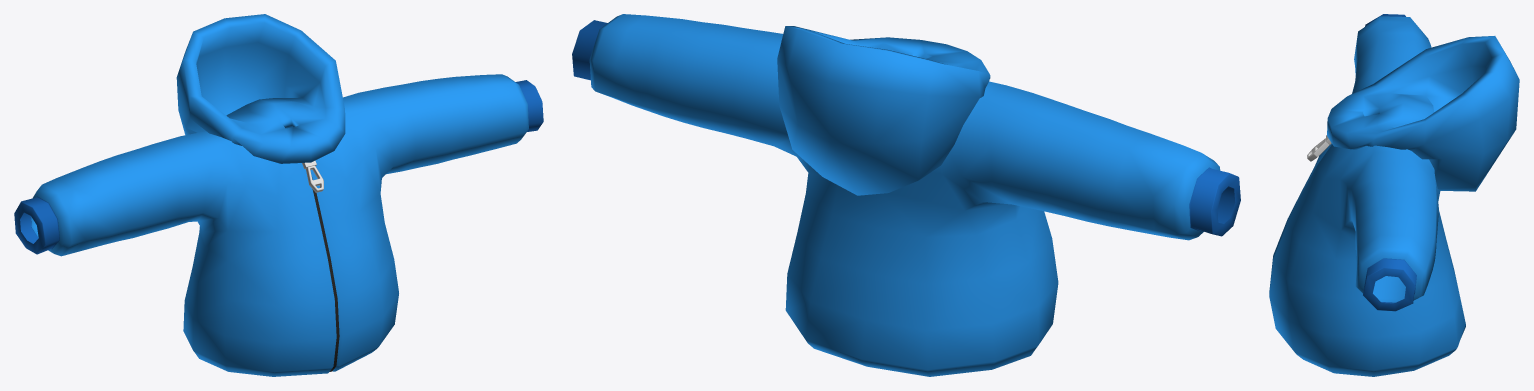
File: Outerwear_Blue_011.glb
3 renders of one model, left to right at view 1: azimuth 30°, elevation 25°; view 2: azimuth 150°, elevation 25°; view 3: azimuth 270°, elevation 25°, orthographic. The views are drawn at different scales.
Parts seen in each view (by area): view 1: Outerwear_Blue_011; view 2: Outerwear_Blue_011; view 3: Outerwear_Blue_011.
Part boxes in pixels (x1,y1,x2,y2): Outerwear_Blue_011: (14, 14, 543, 376); Outerwear_Blue_011: (572, 14, 1240, 376); Outerwear_Blue_011: (1269, 14, 1519, 376).
Size of the model in its own units: 1.29 by 0.6763 by 0.5383.
Materials: 1 (1 with a texture image).
